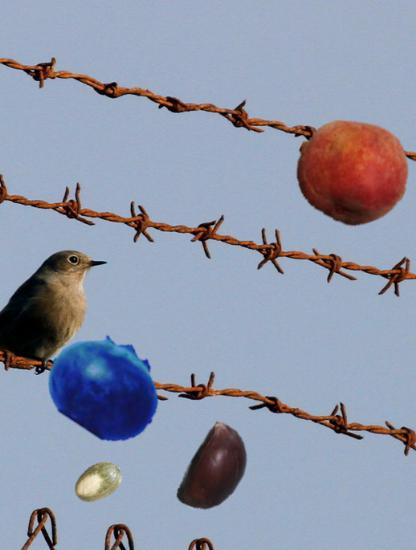Chestnut: (170, 424, 264, 518)
Huckleberry: (48, 328, 165, 445)
Melon: (71, 454, 123, 506)
Peach: (295, 114, 410, 229)
